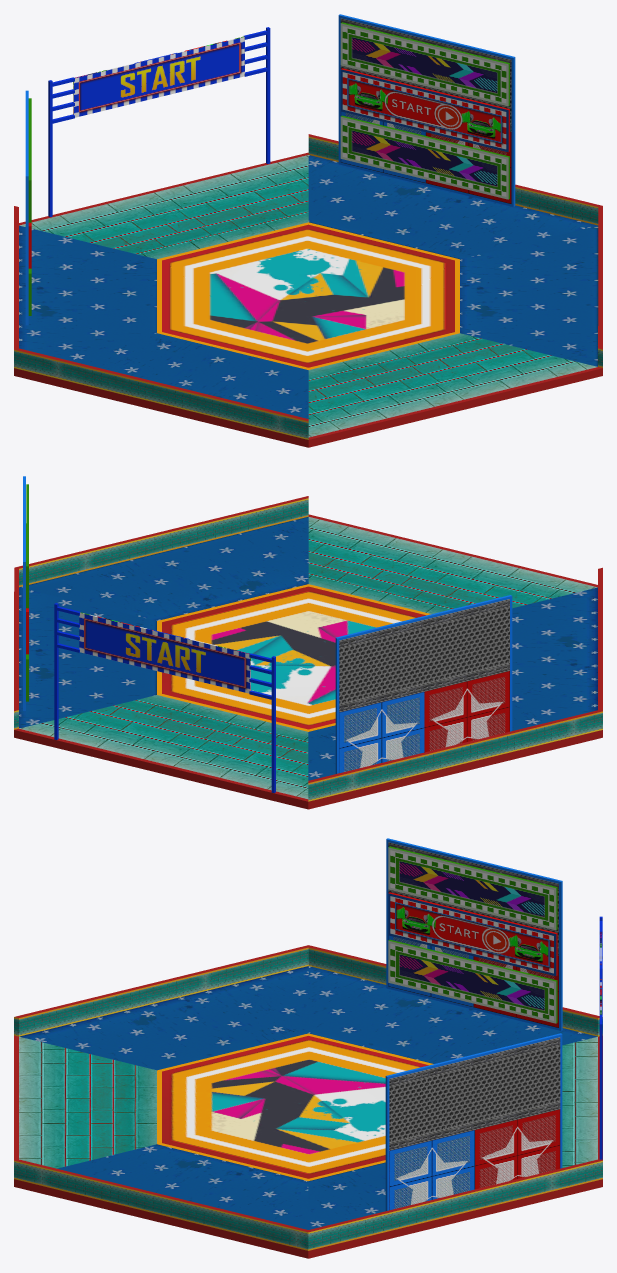
The model's file is Start_Point-4.fbx.
3 renders of one model, top to bottom at view 1: azimuth 30°, elevation 25°; view 2: azimuth 150°, elevation 25°; view 3: azimuth 270°, elevation 25°, orthographic.
Visible parts, largest first — view 1: Start_Point-4; view 2: Start_Point-4; view 3: Start_Point-4.
Part boxes in pixels (x1=…): Start_Point-4: x1=14, y1=14, x2=602, y2=447; Start_Point-4: x1=14, y1=476, x2=602, y2=809; Start_Point-4: x1=14, y1=838, x2=602, y2=1258.
Bounding box in the file's own units: 160712 × 41256 × 139226.
3 materials, 3 textured.
